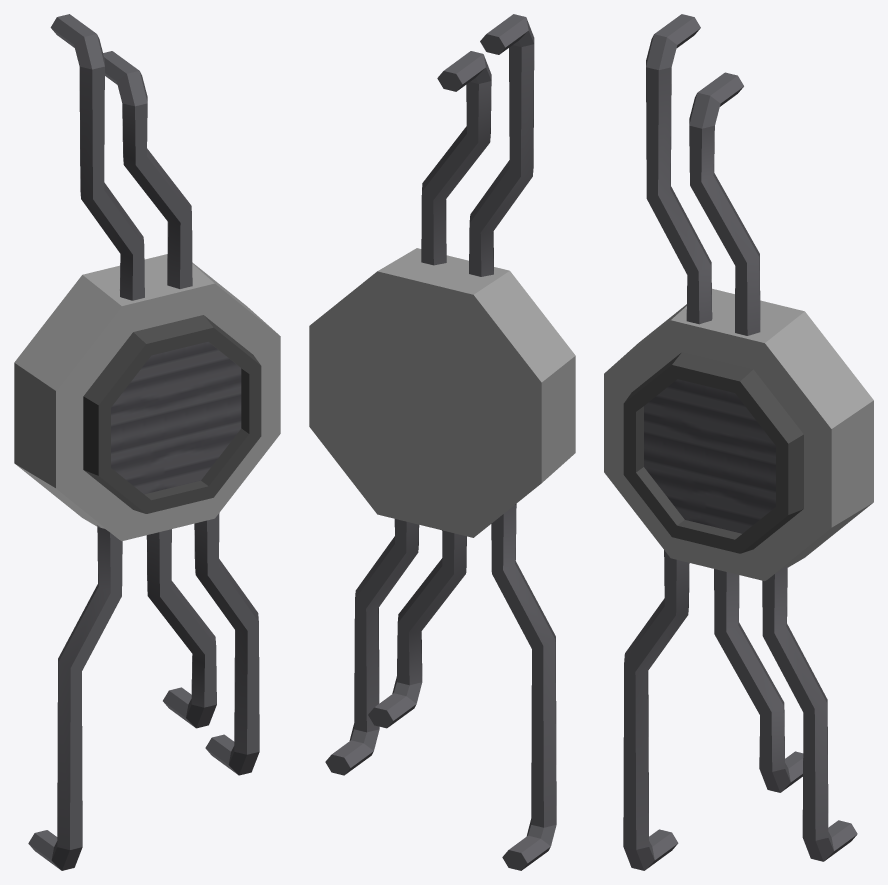
Rendered from city_SM_Prop_WallAttach_Vent_04.gltf.
3 views of the same model, side by side, from view 1: azimuth 30°, elevation 25°; view 2: azimuth 150°, elevation 25°; view 3: azimuth 330°, elevation 25° (orthographic).
Visible parts, largest first — view 1: SM_Prop_WallAttach_Vent_04; view 2: SM_Prop_WallAttach_Vent_04; view 3: SM_Prop_WallAttach_Vent_04.
Part boxes in pixels (x1,y1,x2,y2): SM_Prop_WallAttach_Vent_04: [14, 14, 280, 870]; SM_Prop_WallAttach_Vent_04: [309, 14, 575, 870]; SM_Prop_WallAttach_Vent_04: [604, 14, 873, 870].
Bounding box in the file's own units: 0.8218 × 2.8 × 0.3036.
1 material, 1 textured.
